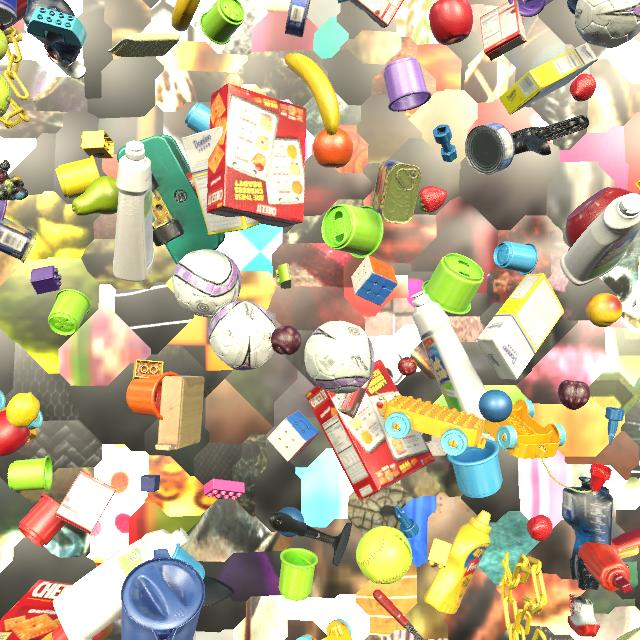ycb_002_master_chef_can: (0, 0, 17, 27)
ycb_003_cracker_box: (305, 360, 435, 499), (207, 83, 307, 228), (0, 580, 73, 640)
ycb_004_sugar_box: (477, 273, 564, 380), (181, 126, 259, 235), (499, 42, 598, 115)
ycb_006_mustard_bottle: (424, 510, 492, 614)
ycb_007_tuna_fish_can: (465, 123, 515, 175), (285, 0, 310, 37)
ycb_008_pudding_box: (338, 373, 374, 419)
ycb_009_gelatin_box: (54, 471, 116, 534), (480, 0, 527, 61), (349, 0, 404, 28)
ycb_010_potted_meat_can: (372, 160, 422, 224), (0, 218, 37, 263)
ycb_011_banana: (284, 53, 340, 135), (171, 0, 200, 31)
ycb_012_strawberry: (418, 186, 447, 213), (570, 74, 596, 102), (527, 514, 553, 541)
ycb_013_apple: (429, 0, 473, 45), (0, 410, 30, 457)
ycb_014_lemon: (6, 392, 40, 428)
ycb_015_peach: (586, 293, 623, 327)
ycb_016_pear: (72, 176, 119, 216)
ycb_017_orange: (313, 128, 353, 168)
ycb_018_plum: (558, 380, 590, 410), (271, 325, 302, 355)
